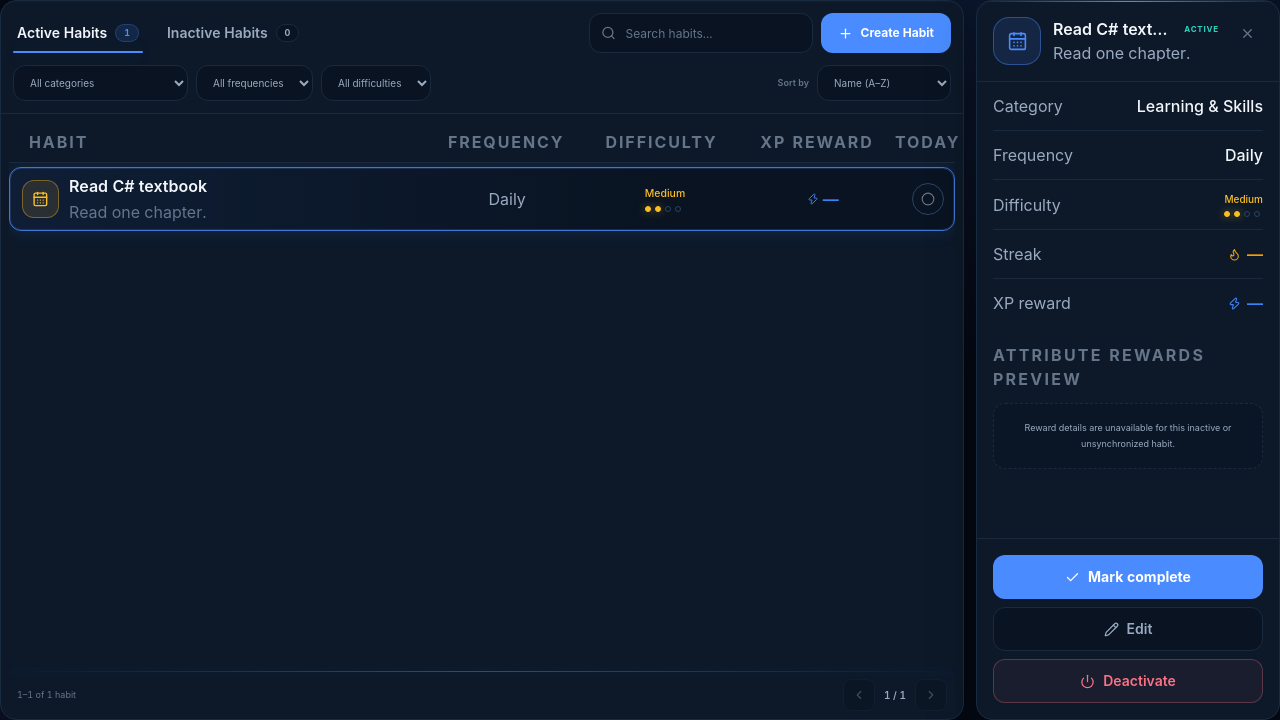
Test case: HabitList › moves a deactivated habit from the active tab to the inactive tab
The width and height of the screenshot is (1280, 720).
Expected: the 2nd heading "Read C# textbook" is shown, [69,174,207,198]
Click the button "Deactivate": (1128, 681) [993,659,1263,703]
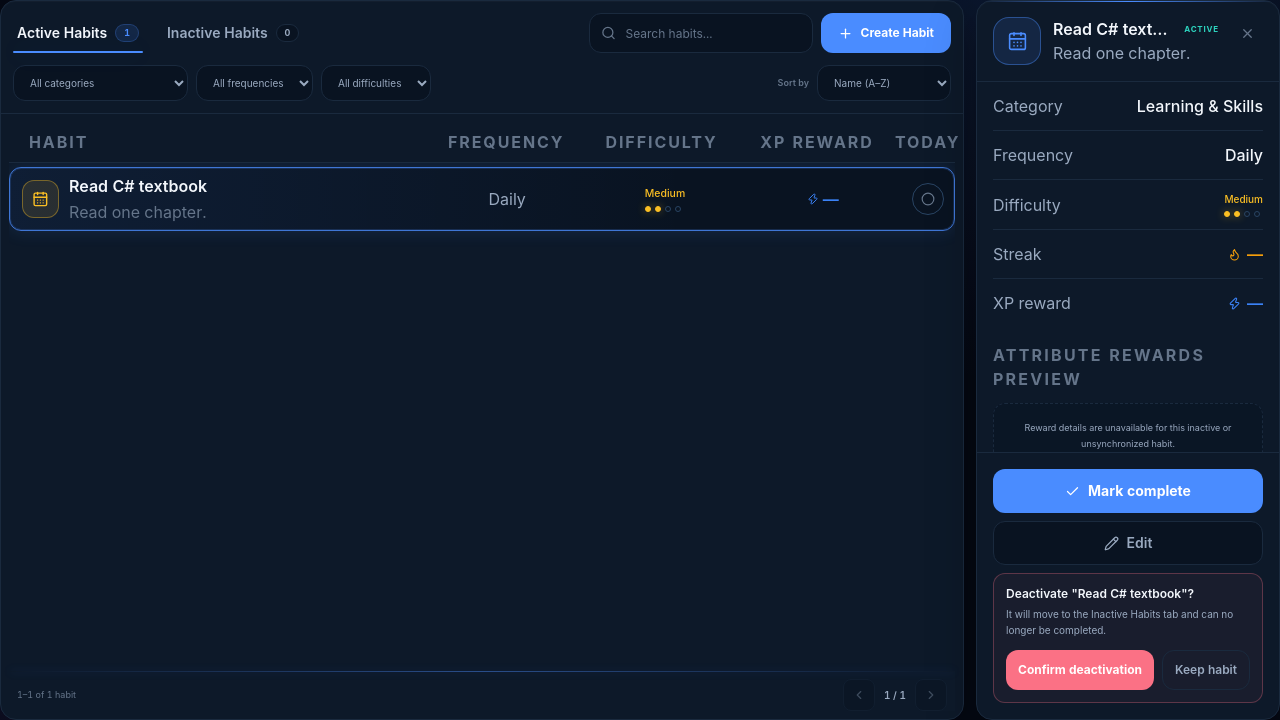
Click the button "Confirm deactivation": (1080, 670) [1006,650,1154,690]
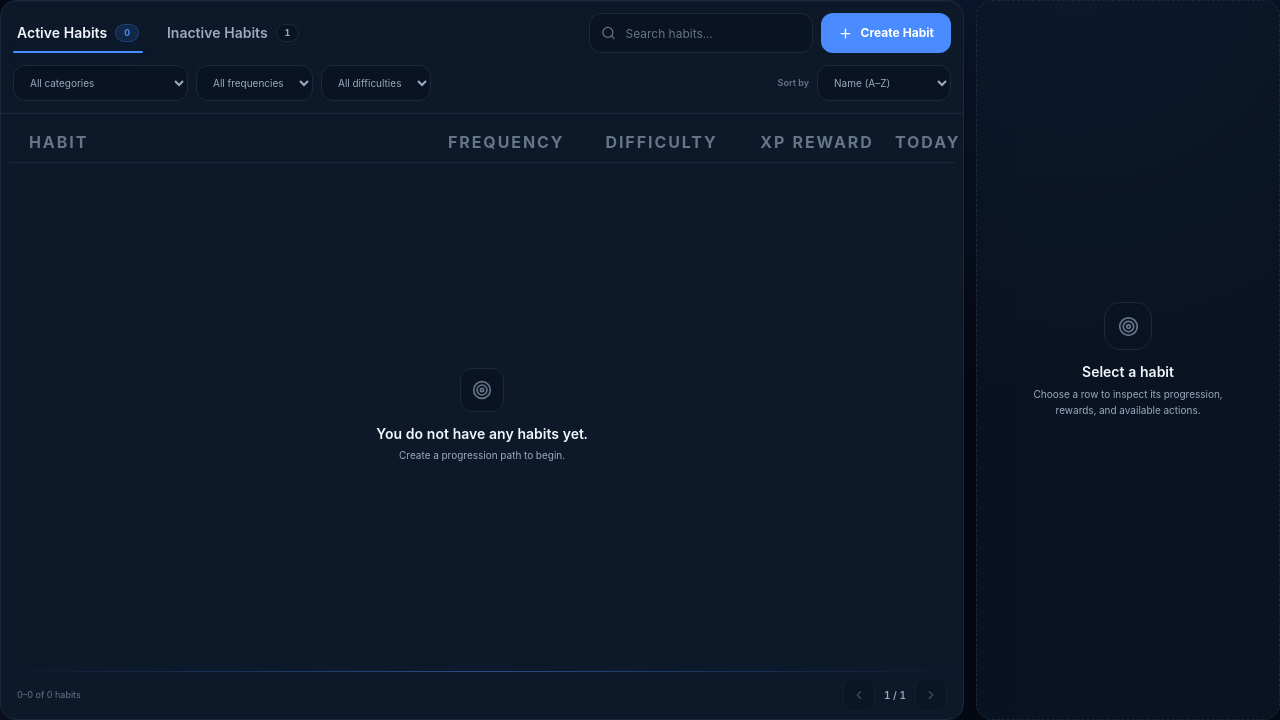
Now the text "You do not have any habits yet." is shown, box [376,424,588,444]
Click the tab "Inactive Habits 1": (233, 33) [163,13,304,53]
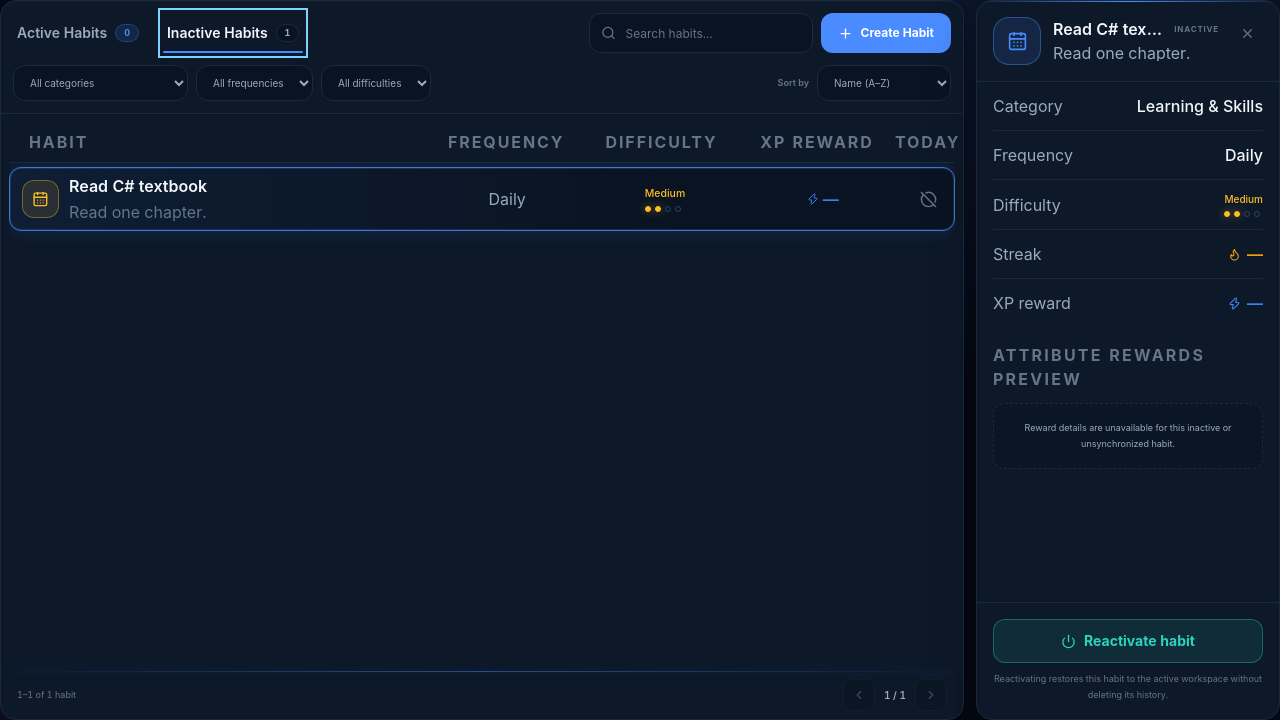
Now the 2nd heading "Read C# textbook" is shown, box [69,174,207,198]
Now the icon named "Inactive habit" is shown, box [920,190,936,208]
